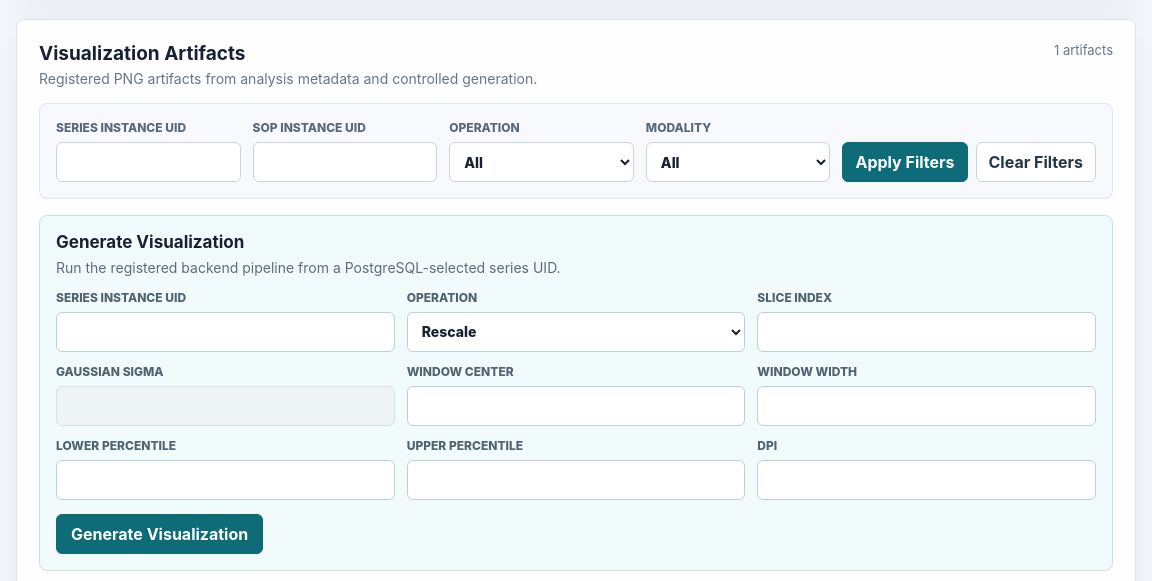
VisualizationArtifactWorkbench › successful generation selects returned artifact, refreshes list, and avoids duplicates
(page scrolled)
Type "1.2.826.0.1.series" into the 2nd field labelled "Series Instance UID". click: coordinates (225, 332)
box: [56, 312, 395, 352]
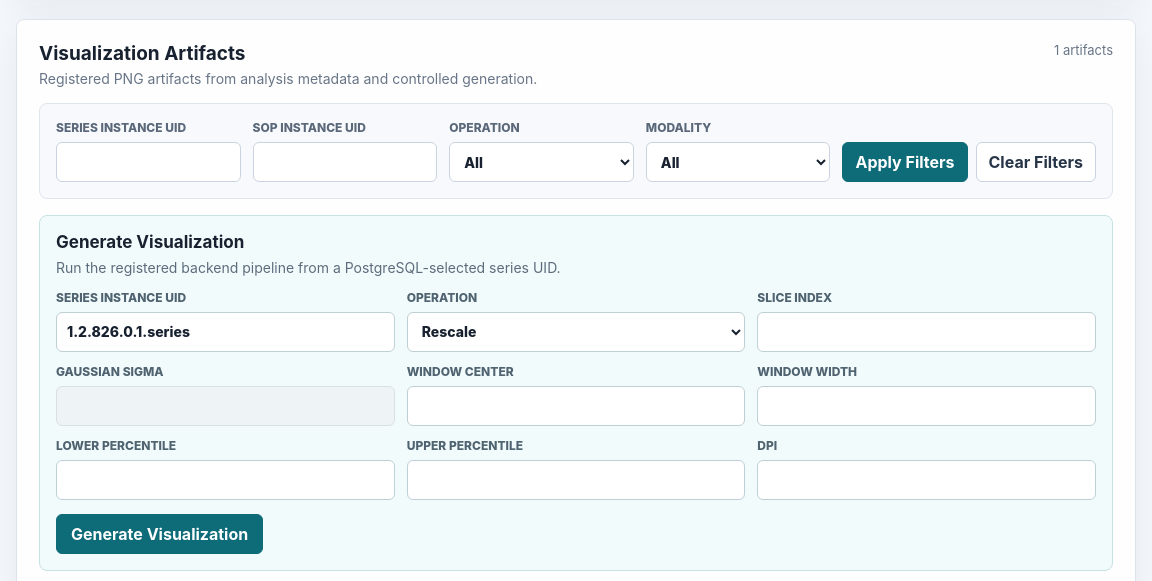
Select "Gaussian" in the 2nd dropdown labelled "Operation". click: coordinates (576, 332)
box: [407, 312, 745, 352]
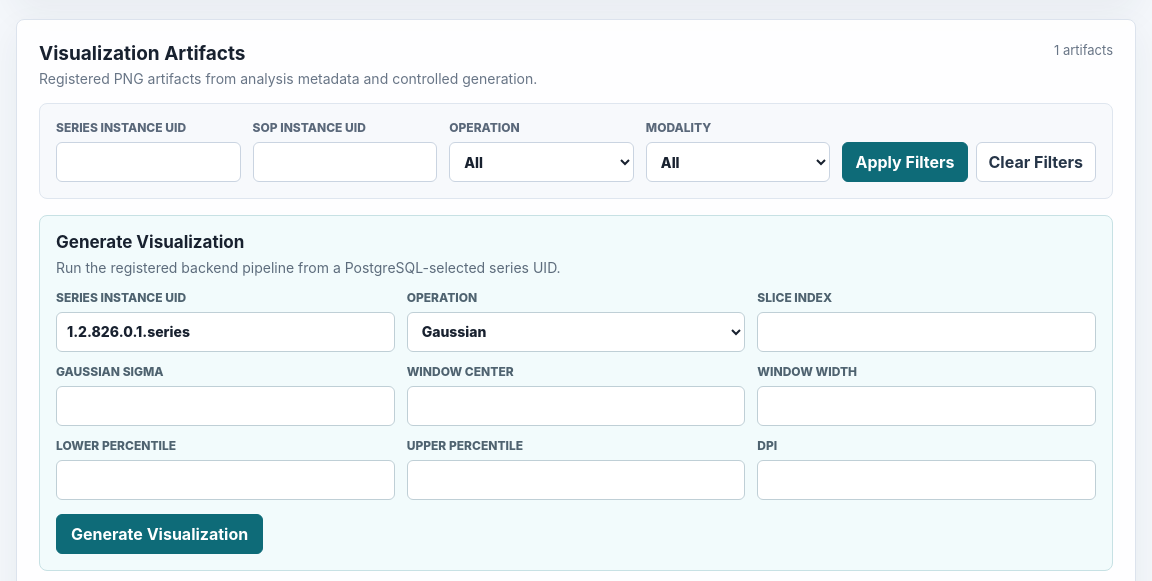
Type "1.5" into the number field labelled "Gaussian sigma". click: coordinates (225, 406)
box: [56, 386, 395, 426]
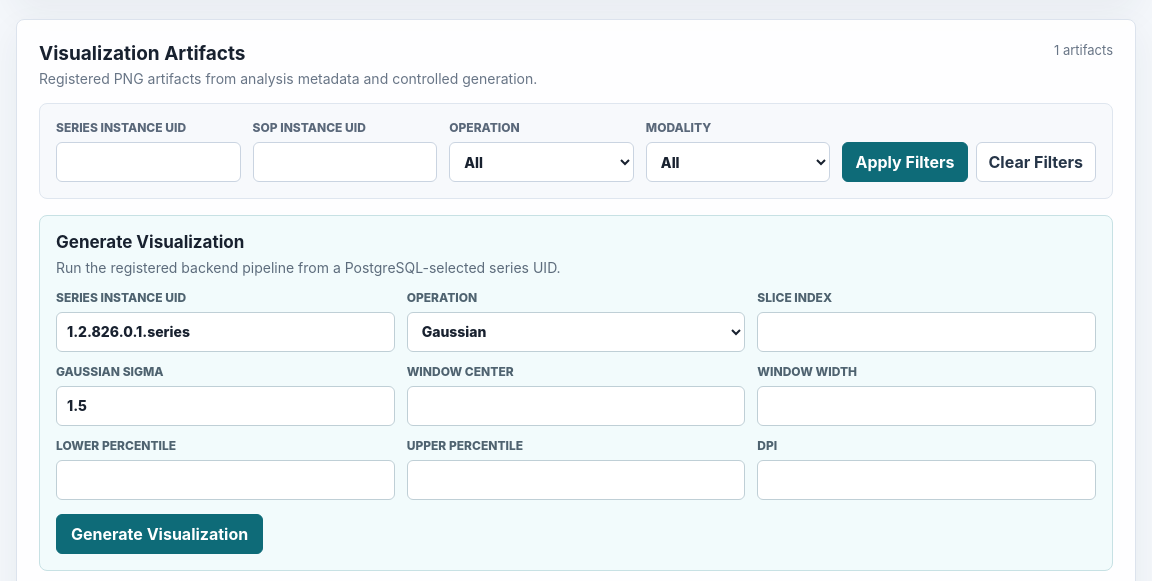
Click the button "Generate Visualization". click: coordinates (160, 534)
box: [56, 514, 263, 554]
(page scrolled)
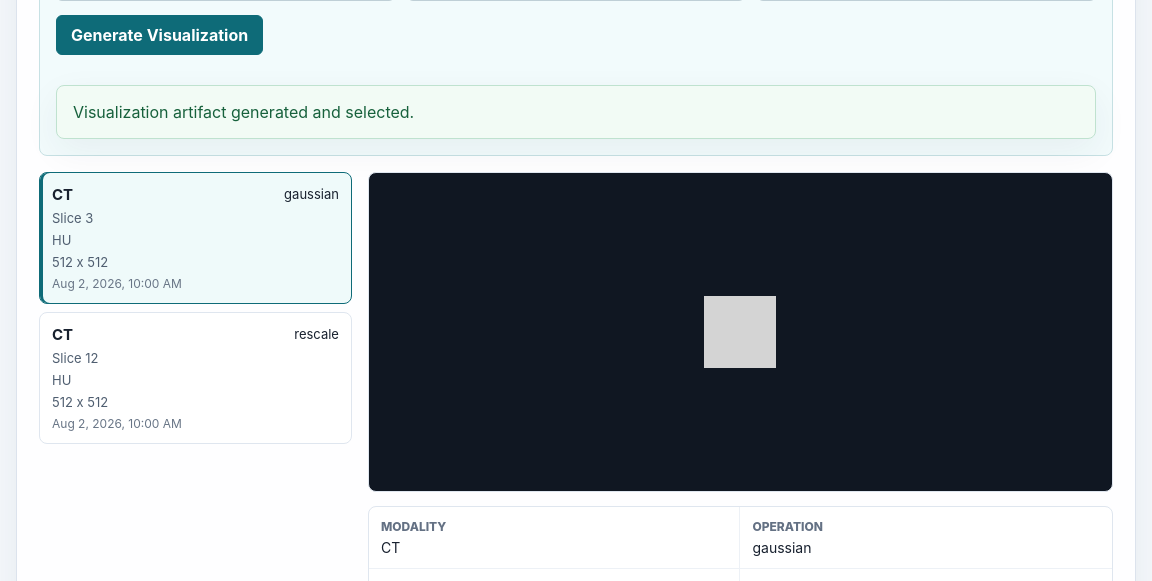
Expected: the number of buttons "CT gaussian Slice 3 HU 512 x 512 Aug 2, 2026, 10:00 AM" is 1, [39, 172, 352, 304]
